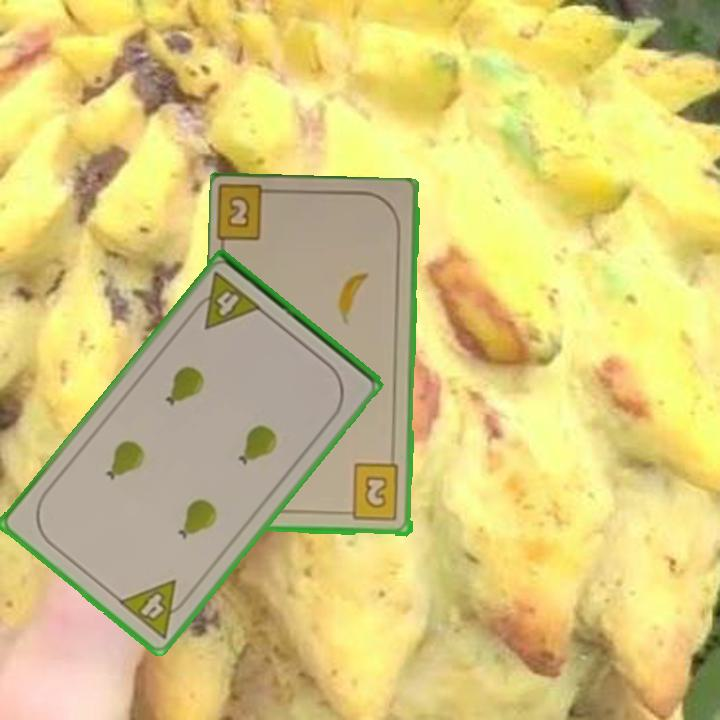2b: (216, 185, 283, 246), (340, 461, 402, 524)
4p: (114, 576, 195, 642), (186, 269, 265, 333)
